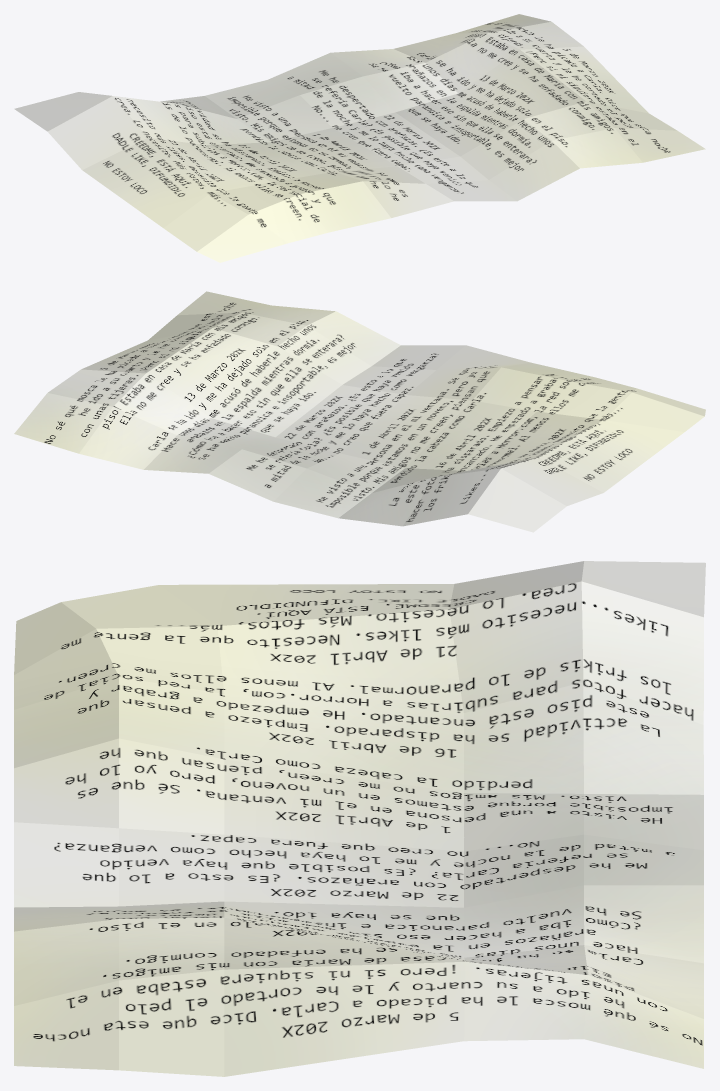
Rendered from papel.fbx.
The picture shows the model from 3 angles, top to bottom: view 1: azimuth 30°, elevation 25°; view 2: azimuth 150°, elevation 25°; view 3: azimuth 270°, elevation 25°; orthographic projection. The views are drawn at different scales.
Visible parts, largest first — view 1: Plane; view 2: Plane; view 3: Plane.
Boxes of the visible parts, left/top/right/bottom form: Plane: left=14, top=14, right=705, bottom=262; Plane: left=14, top=291, right=705, bottom=532; Plane: left=14, top=561, right=705, bottom=1076.
Size of the model in its own units: 312 by 32.27 by 201.
1 material, 1 textured.
